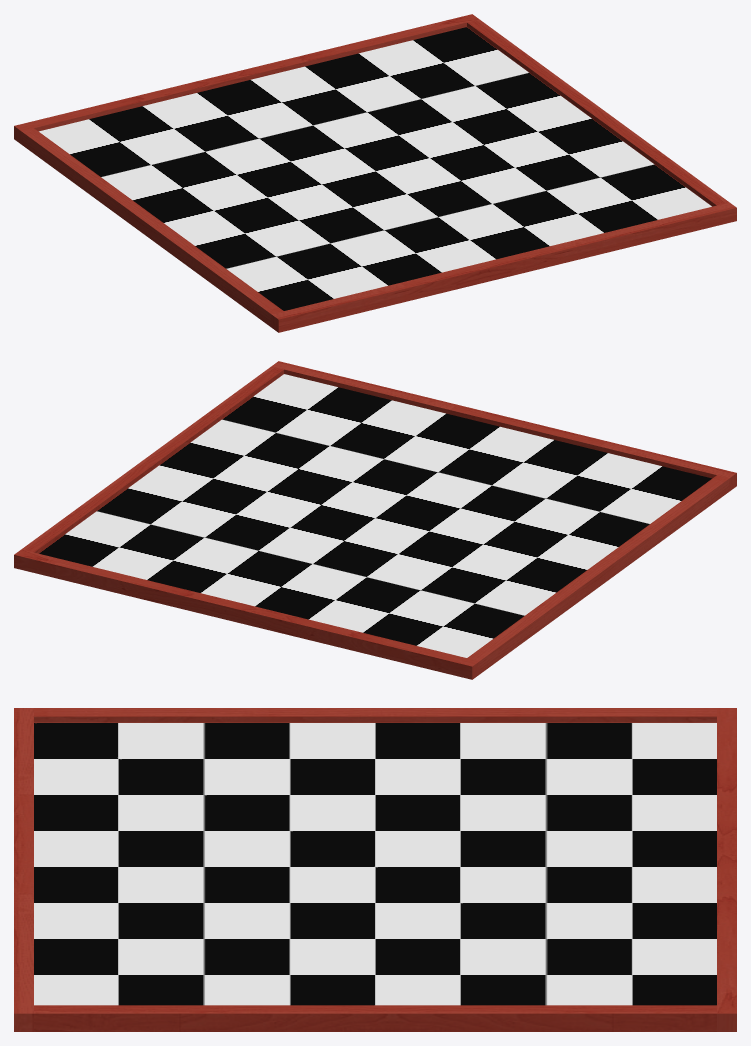
File: Chessboard.glb
The picture shows the model from 3 angles, top to bottom: view 1: azimuth 30°, elevation 25°; view 2: azimuth 150°, elevation 25°; view 3: azimuth 270°, elevation 25°; orthographic projection. The views are drawn at different scales.
Parts seen in each view (by area): view 1: Chessboard; view 2: Chessboard; view 3: Chessboard.
Boxes of the visible parts, x1,y1,x2,y2 form: Chessboard: [14, 14, 736, 332]; Chessboard: [14, 361, 736, 679]; Chessboard: [14, 708, 736, 1031].
Bounding box in the file's own units: 10.84 × 0.3 × 10.84.
Materials: 1 (1 with a texture image).
